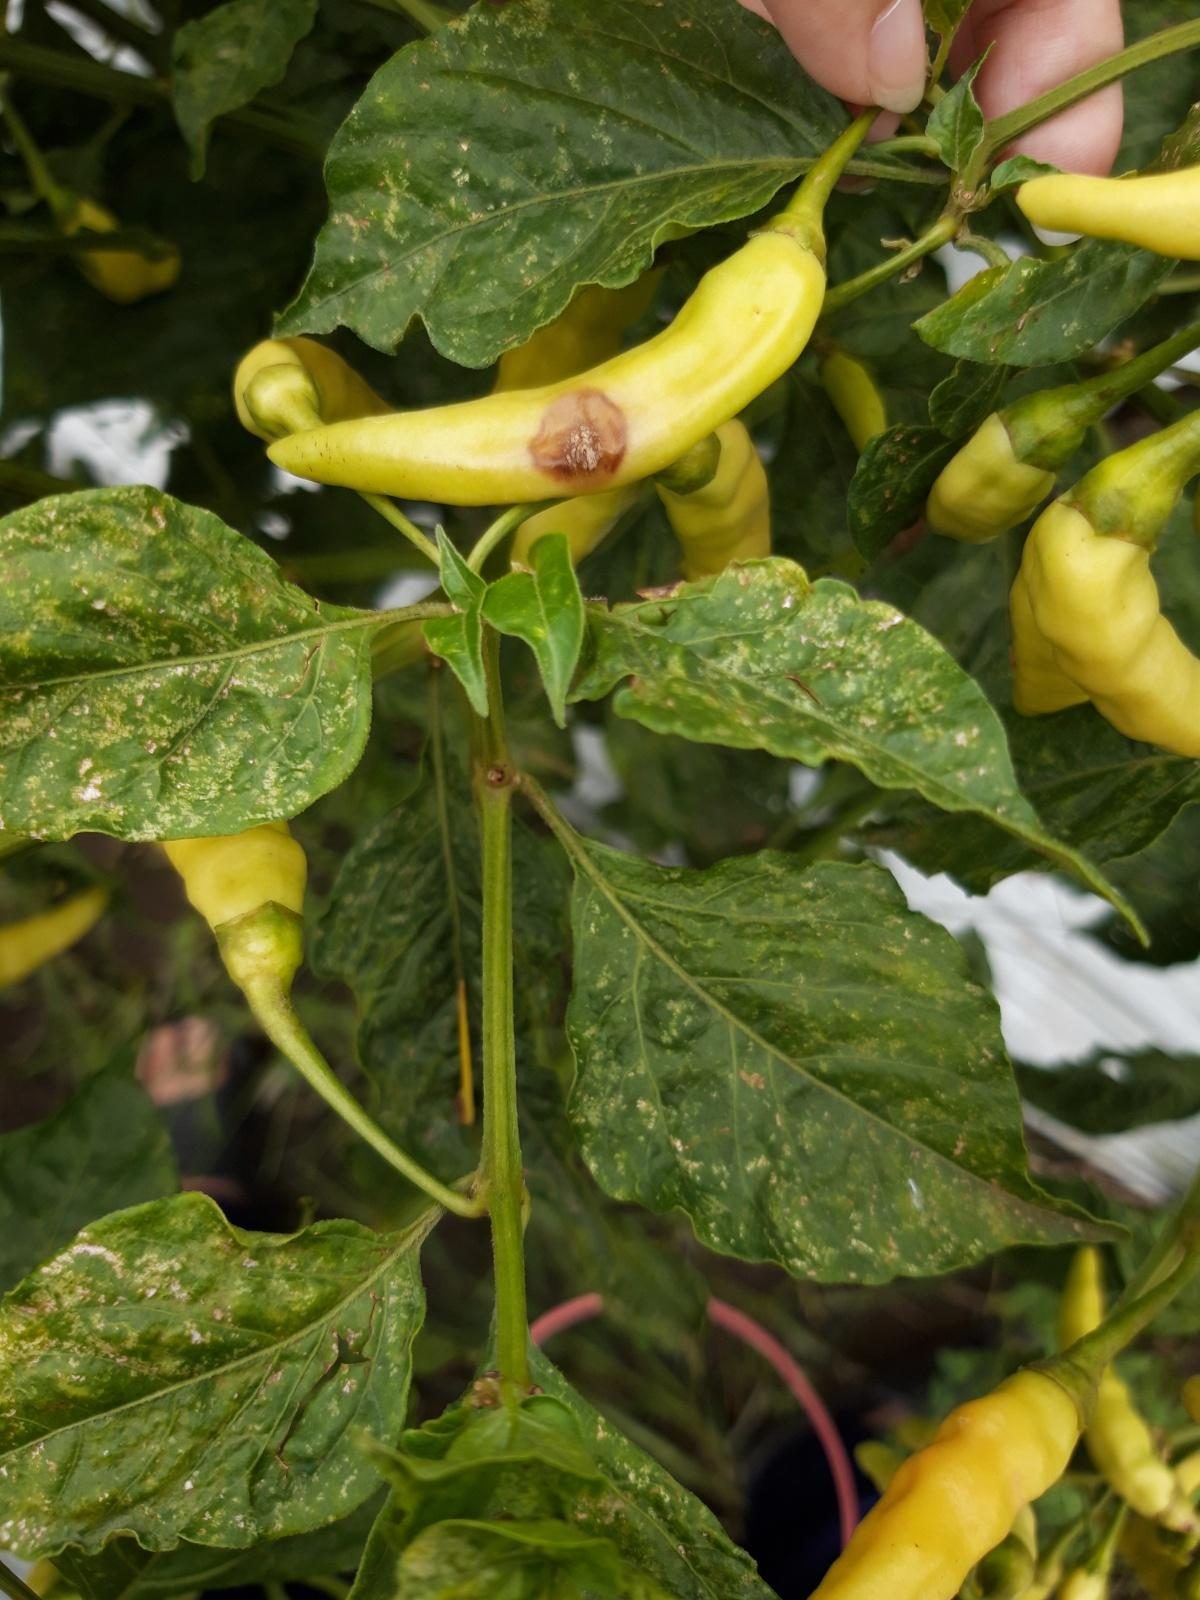cabai_normal: (811, 1353, 1094, 1600), (1024, 452, 1200, 756), (1058, 1246, 1192, 1532), (928, 391, 1080, 543), (233, 336, 400, 441)
lalat_buah: (265, 213, 824, 506)
